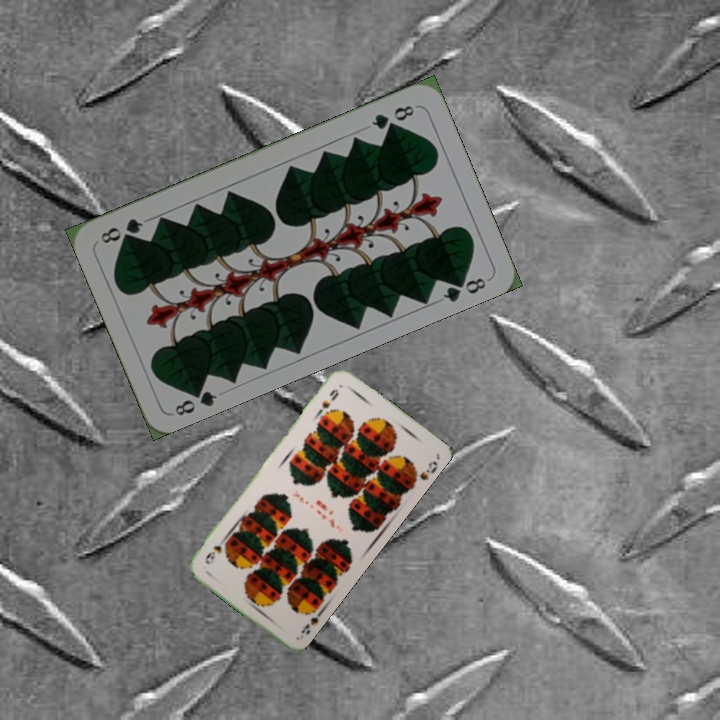G8: (170, 381, 220, 419), (367, 101, 420, 132)
S9: (297, 602, 326, 637), (314, 385, 341, 418)
